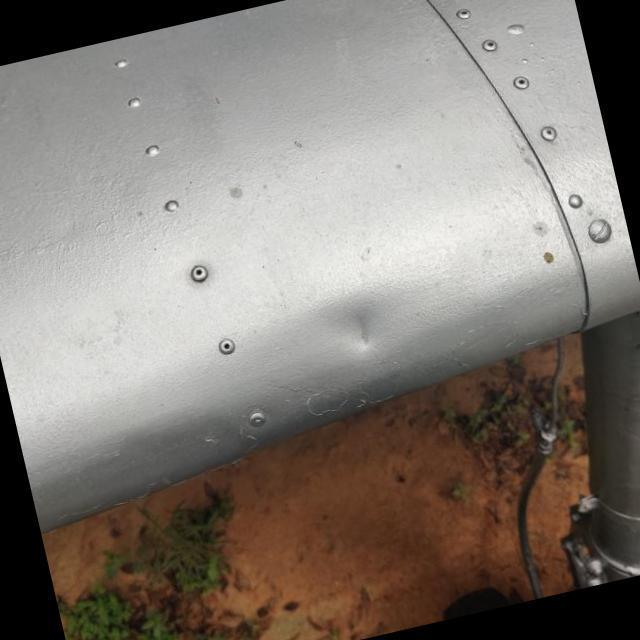dent: (336, 296, 402, 369)
